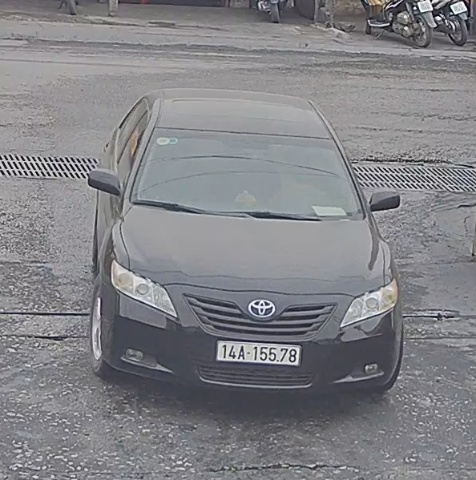vehicle plate: (211, 334, 304, 370)
